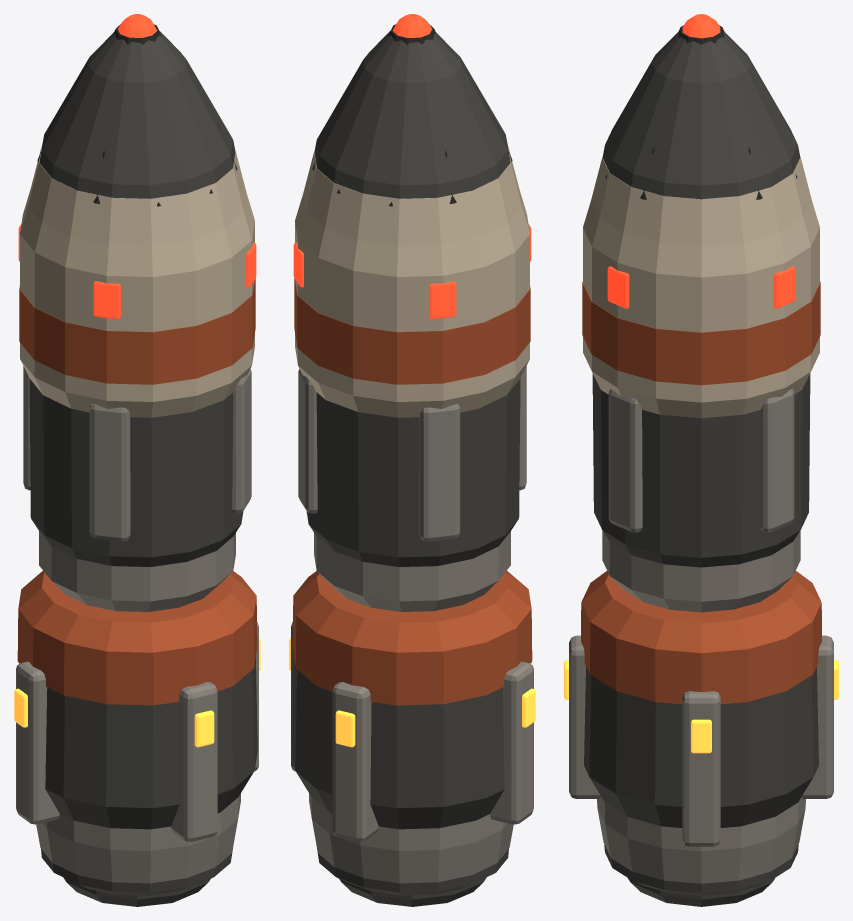
The model's file is cinder-missile.glb.
3 views of the same model, side by side, from view 1: azimuth 30°, elevation 25°; view 2: azimuth 150°, elevation 25°; view 3: azimuth 270°, elevation 25° (orthographic).
Visible parts, largest first — view 1: Ceramic point and shoulder, Armored forebody, Booster heatshield, Red separation sleeve, Scorched band, Aft alloy collar, Burnished release collar, Longitudinal armor keys.001, Booster locking rib.001, Booster locking rib.002, Longitudinal armor keys, Exhaust bowl (+4 smaller); view 2: Ceramic point and shoulder, Armored forebody, Booster heatshield, Red separation sleeve, Scorched band, Aft alloy collar, Burnished release collar, Longitudinal armor keys.002, Booster locking rib.003, Booster locking rib.002, Longitudinal armor keys.003, Exhaust bowl (+4 smaller); view 3: Ceramic point and shoulder, Armored forebody, Booster heatshield, Red separation sleeve, Scorched band, Aft alloy collar, Burnished release collar, Booster locking rib, Longitudinal armor keys, Longitudinal armor keys.003, Booster locking rib.001, Booster locking rib.003 (+5 smaller).
Part boxes in pixels (bbox=[...]): Ceramic point and shoulder: bbox=[29, 31, 243, 566]; Armored forebody: bbox=[20, 146, 254, 417]; Booster heatshield: bbox=[41, 658, 257, 895]; Red separation sleeve: bbox=[17, 571, 257, 705]; Scorched band: bbox=[19, 278, 255, 384]; Aft alloy collar: bbox=[36, 793, 240, 883]; Burnished release collar: bbox=[39, 531, 235, 611]; Longitudinal armor keys.001: bbox=[89, 404, 130, 541]; Booster locking rib.001: bbox=[171, 682, 217, 841]; Booster locking rib.002: bbox=[16, 661, 59, 824]; Longitudinal armor keys: bbox=[232, 369, 251, 513]; Exhaust bowl: bbox=[63, 877, 210, 906]; Ceramic point and shoulder: bbox=[306, 31, 520, 566]; Armored forebody: bbox=[295, 146, 529, 417]; Booster heatshield: bbox=[292, 658, 508, 895]; Red separation sleeve: bbox=[292, 571, 532, 705]; Scorched band: bbox=[294, 278, 530, 384]; Aft alloy collar: bbox=[309, 793, 513, 883]; Burnished release collar: bbox=[314, 531, 510, 611]; Longitudinal armor keys.002: bbox=[419, 404, 460, 541]; Booster locking rib.003: bbox=[332, 682, 378, 841]; Booster locking rib.002: bbox=[490, 661, 533, 824]; Longitudinal armor keys.003: bbox=[298, 369, 317, 513]; Exhaust bowl: bbox=[339, 877, 486, 906]; Ceramic point and shoulder: bbox=[592, 32, 810, 567]; Armored forebody: bbox=[583, 157, 819, 418]; Booster heatshield: bbox=[584, 667, 818, 895]; Red separation sleeve: bbox=[581, 571, 821, 704]; Scorched band: bbox=[582, 281, 820, 385]; Aft alloy collar: bbox=[597, 796, 805, 883]; Burnished release collar: bbox=[602, 530, 800, 612]; Booster locking rib: bbox=[682, 691, 720, 846]; Longitudinal armor keys: bbox=[608, 389, 642, 532]; Longitudinal armor keys.003: bbox=[760, 389, 794, 532]; Booster locking rib.001: bbox=[569, 635, 600, 798]; Booster locking rib.003: bbox=[802, 635, 833, 798].
Size of what is drawn, in the model's own units: 0.0837 by 0.289 by 0.0837.
